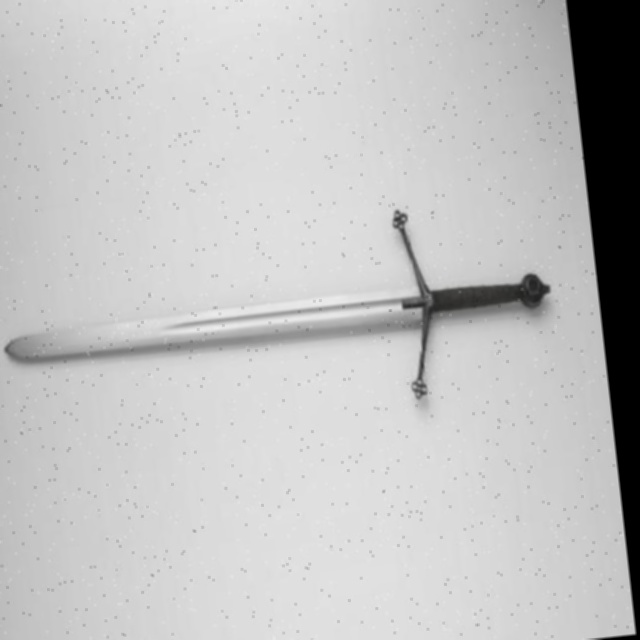Sharp-Object: (2, 258, 559, 398)
